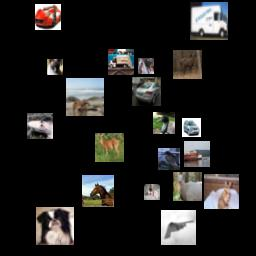airplane: (161, 210, 196, 245)
automobile: (132, 77, 161, 106), (35, 4, 61, 30), (182, 118, 201, 137)
bird: (158, 148, 180, 170), (153, 112, 175, 134)
cat: (204, 174, 239, 209), (47, 59, 63, 75)
deer: (173, 50, 202, 79), (95, 133, 124, 162), (173, 172, 202, 201)
dog: (36, 207, 74, 245), (66, 78, 104, 116), (144, 184, 160, 200)
ship: (184, 141, 210, 167), (27, 113, 53, 139)
truck: (190, 2, 228, 40), (108, 49, 134, 75)
